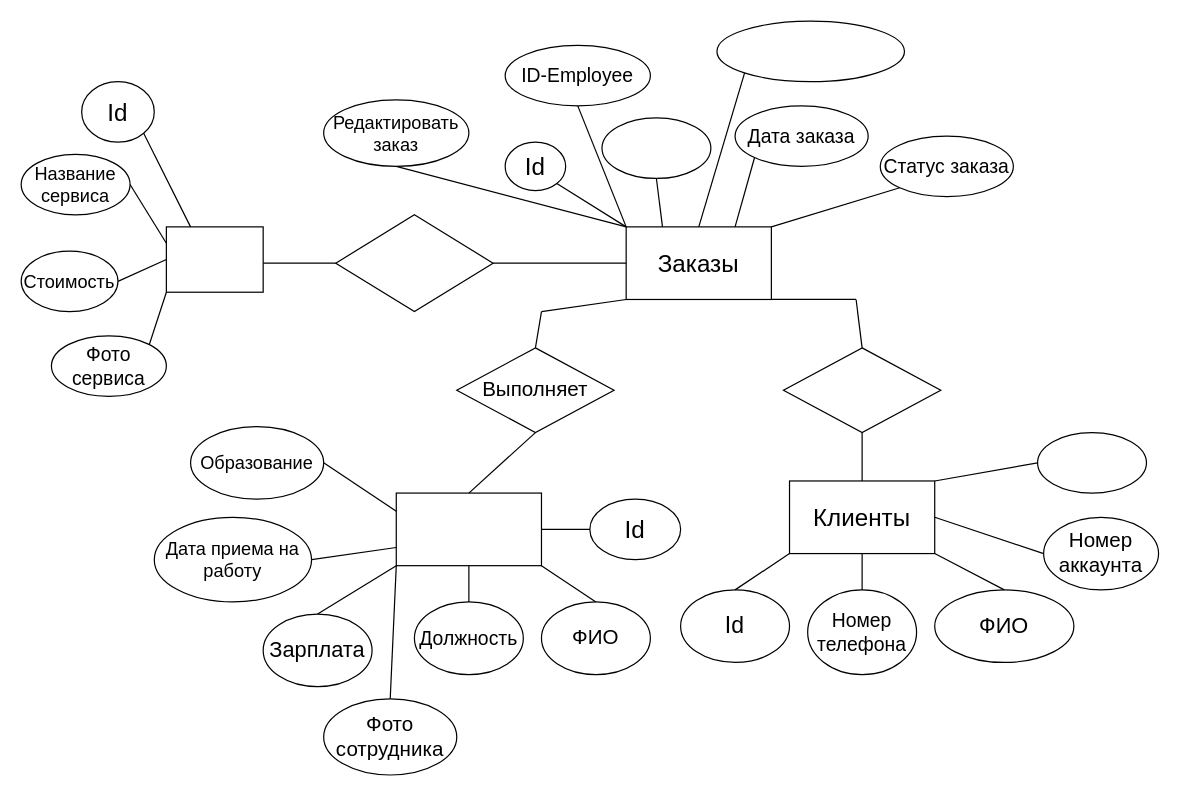
Some shapes in this 1180 by 796 pixel diagram are drawn without their labels. The shapes that lost their labels are listed below. From the top down, each one's centre as x and y in pixels, then its label:
At point (810, 51): "ID_Customer".
At point (656, 147): "ID_Service".
At point (214, 259): "Сервис".
At point (414, 263): "Включает".
At point (861, 390): "Оформляет".
At point (1091, 462): "Адрес".
At point (468, 529): "Сотрудники".
